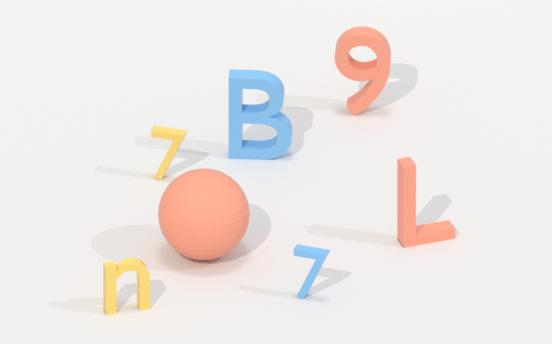7: (289, 242, 336, 301), (146, 123, 192, 182)
9: (334, 28, 397, 119)
b: (224, 70, 294, 162)
cau: (151, 169, 255, 262)
l: (390, 153, 468, 248)
n: (102, 257, 155, 319)
